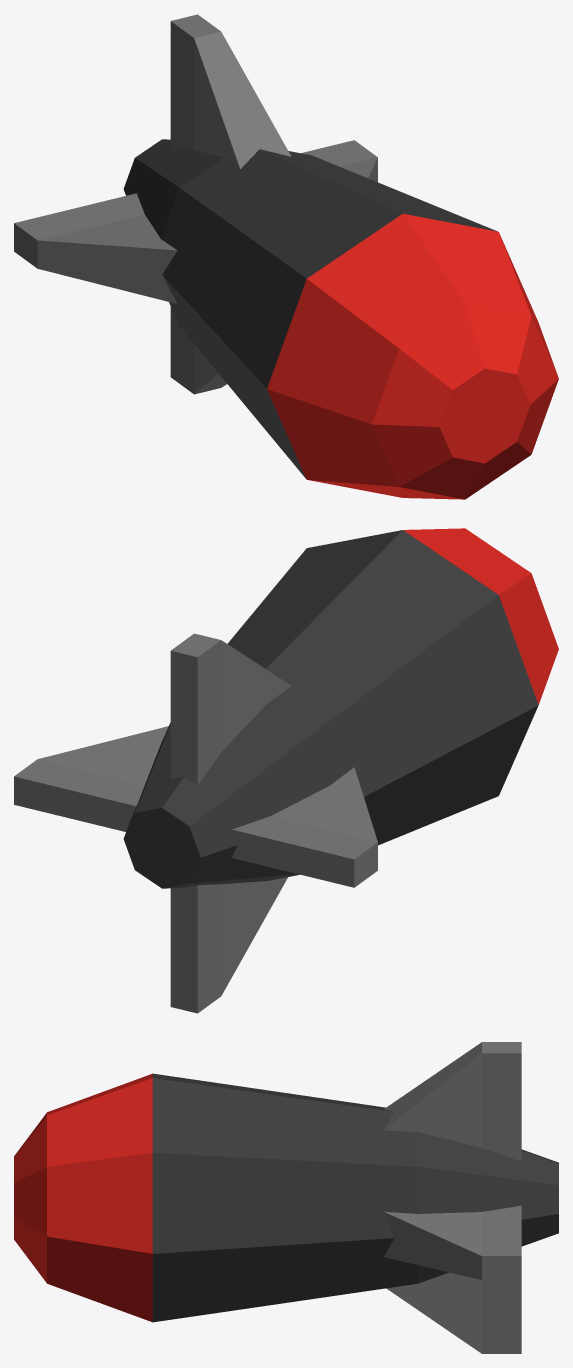
Rendered from rocket2.fbx.
3 renders of one model, top to bottom at view 1: azimuth 30°, elevation 25°; view 2: azimuth 150°, elevation 25°; view 3: azimuth 270°, elevation 25°, orthographic. The views are drawn at different scales.
Parts seen in each view (by area): view 1: Cylinder.008, Cube.021; view 2: Cylinder.008, Cube.021; view 3: Cylinder.008, Cube.021.
Boxes of the visible parts, x1,y1,x2,y2 form: Cylinder.008: [123, 139, 558, 499]; Cube.021: [14, 14, 377, 394]; Cylinder.008: [123, 528, 558, 888]; Cube.021: [14, 633, 377, 1013]; Cylinder.008: [14, 1073, 558, 1322]; Cube.021: [384, 1042, 521, 1353].
Size of the model in its own units: 34.15 by 34.15 by 56.09.
